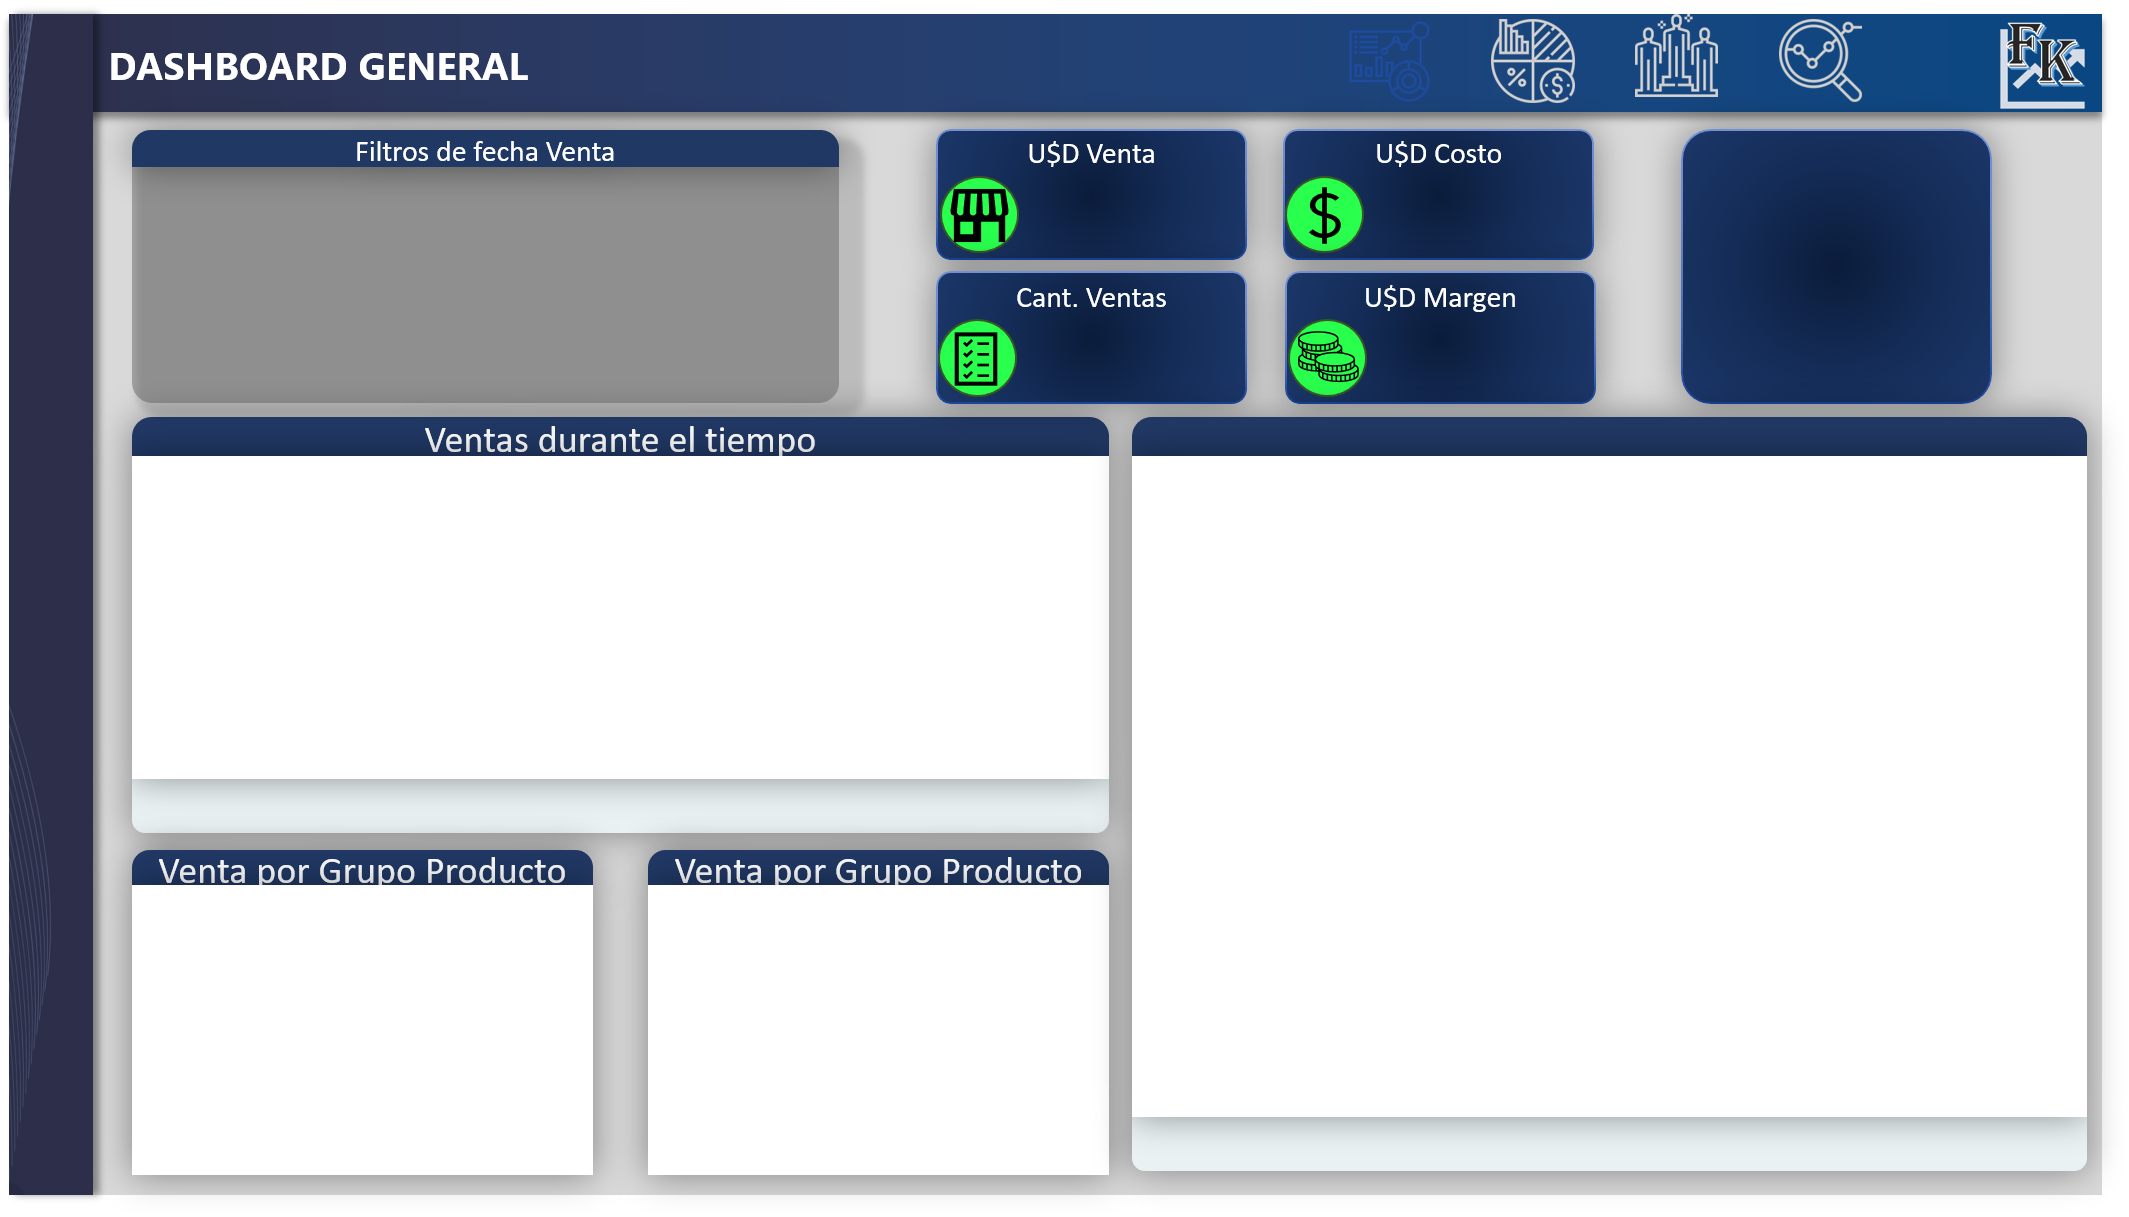

The dashboard page shown, as its layout file describes it:
{"tool":"powerbi","page":{"name":"Ventas","canvas":[1280,720],"ordinal":1},"visuals":[{"type":"slicer","fields":{"Values":["Ventas.fecha_venta"]},"box":[86.6,123.1,201.7,94.6],"z":0},{"type":"slicer","fields":{"Values":["Ventas.fecha_venta.Variación.Jerarquía de fechas.Año"]},"box":[297.5,101.6,201.7,70.1],"z":1000},{"type":"slicer","fields":{"Values":["Ventas.fecha_venta.Variación.Jerarquía de fechas.Mes"]},"box":[297.5,171.7,201.7,67.6],"z":2000},{"type":"card","fields":{"Values":["Sum(Ventas.valor_venta)"]},"box":[609.4,101.8,142.6,48],"z":3000},{"type":"card","fields":{"Values":["CountNonNull(Ventas.valor_venta)"]},"box":[609.4,189.1,142.6,48],"z":4000},{"type":"card","fields":{"Values":["Sum(Ventas.valor_costo)"]},"box":[824.6,101.8,142.6,48],"z":5000},{"type":"card","fields":{"Values":["Medidas.Margen Bruto"]},"box":[824.6,189.1,142.6,48],"z":6000},{"type":"payPalKPIDonutChart55A431AB15A540ED924ACD72ED8D259F","title":"% Margen B.","fields":{"myvalue":["Medidas.%_MB"]},"box":[1028.1,84.3,171,155],"z":7000},{"type":"stackedAreaChart","title":"venta / costo / mb","fields":{"Category":["Ventas.fecha_venta.Variación.Jerarquía de fechas.Año","Ventas.fecha_venta.Variación.Jerarquía de fechas.Trimestre","Ventas.fecha_venta.Variación.Jerarquía de fechas.Mes","Ventas.fecha_venta.Variación.Jerarquía de fechas.Día"],"Y":["Medidas.Margen Bruto","Sum(Ventas.valor_costo)","Sum(Ventas.valor_venta)"]},"box":[75.2,270.1,588.1,178.9],"z":9000},{"type":"actionButton","title":"Boton1","box":[107.1,466.2,181.2,26.2],"z":11000},{"type":"barChart","fields":{"Category":["Grupos.desc_grupo"],"Y":["Sum(Ventas.valor_venta)"]},"box":[76.4,523.2,278.1,169.8],"z":12000},{"type":"pieChart","fields":{"Y":["Sum(Ventas.valor_venta)"],"Series":["Condiciones.desc_condicion"]},"box":[389.8,523.2,273.6,169.8],"z":14000},{"type":"actionButton","title":"Boton Influenciadores","box":[1017.8,658.8,181.2,34.2],"z":15000},{"type":"map","title":"Mapa de Ventas por localidad","fields":{"Series":["Localidades.Ciudad"],"Size":["Sum(Ventas.valor_venta)"],"Category":["Localidades.Localidad"]},"box":[680,250.7,573.7,408.3],"z":17000},{"type":"actionButton","box":[896.4,8.6,52.9,57.8],"z":18000},{"type":"actionButton","box":[982.4,8.6,52.9,57.8],"z":19000},{"type":"actionButton","title":"Botón","box":[1068.5,8.6,52.9,57.8],"z":20000},{"type":"actionButton","box":[719.3,8.6,52.9,57.8],"z":21000}]}

Visuals, with their boxes in screenshot pixels (x1, y1, x2, y2), scaled from the page's 1280x720 canvas onto the 2129x1217 screenshot:
slicer - Ventas.fecha_venta: l=144, t=208, r=480, b=368
slicer - Ventas.fecha_venta.Variación.Jerarquía de fechas.Año: l=495, t=172, r=830, b=290
slicer - Ventas.fecha_venta.Variación.Jerarquía de fechas.Mes: l=495, t=290, r=830, b=404
card - Sum(Ventas.valor_venta): l=1014, t=172, r=1251, b=253
card - CountNonNull(Ventas.valor_venta): l=1014, t=320, r=1251, b=401
card - Sum(Ventas.valor_costo): l=1372, t=172, r=1609, b=253
card - Medidas.Margen Bruto: l=1372, t=320, r=1609, b=401
"% Margen B." payPalKPIDonutChart55A431AB15A540ED924ACD72ED8D259F: l=1710, t=142, r=1994, b=404
"venta / costo / mb" stackedAreaChart: l=125, t=457, r=1103, b=759
"Boton1" actionButton: l=178, t=788, r=480, b=832
barChart - Grupos.desc_grupo x Sum(Ventas.valor_venta): l=127, t=884, r=590, b=1171
pieChart - Sum(Ventas.valor_venta) x Condiciones.desc_condicion: l=648, t=884, r=1103, b=1171
"Boton Influenciadores" actionButton: l=1693, t=1114, r=1994, b=1171
"Mapa de Ventas por localidad" map: l=1131, t=424, r=2085, b=1114
actionButton: l=1491, t=15, r=1579, b=112
actionButton: l=1634, t=15, r=1722, b=112
"Botón" actionButton: l=1777, t=15, r=1865, b=112
actionButton: l=1196, t=15, r=1284, b=112
